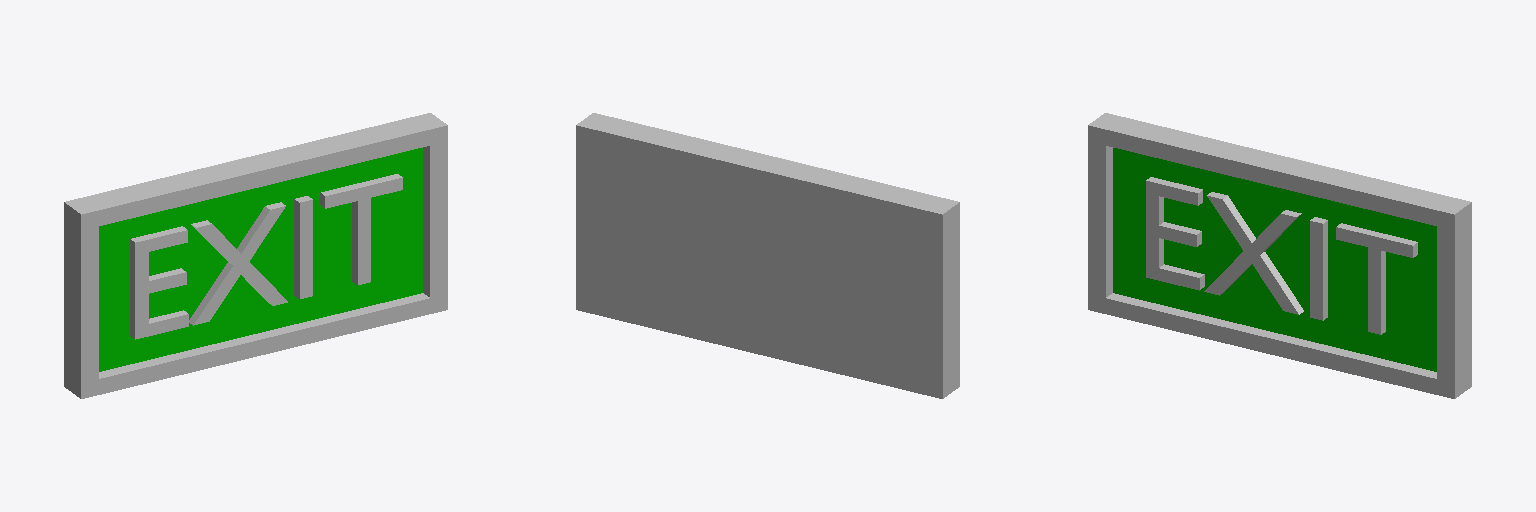
Rendered from exit_sign.obj.
3 renders of one model, left to right at view 1: azimuth 30°, elevation 25°; view 2: azimuth 150°, elevation 25°; view 3: azimuth 330°, elevation 25°, orthographic.
Parts seen in each view (by area): view 1: exit_sign; view 2: exit_sign; view 3: exit_sign.
Part boxes in pixels (x1,y1,x2,y2): exit_sign: (64, 113, 447, 398); exit_sign: (576, 113, 959, 398); exit_sign: (1088, 113, 1471, 398).
Bounding box in the file's own units: 0.4795 × 0.2309 × 0.0393.